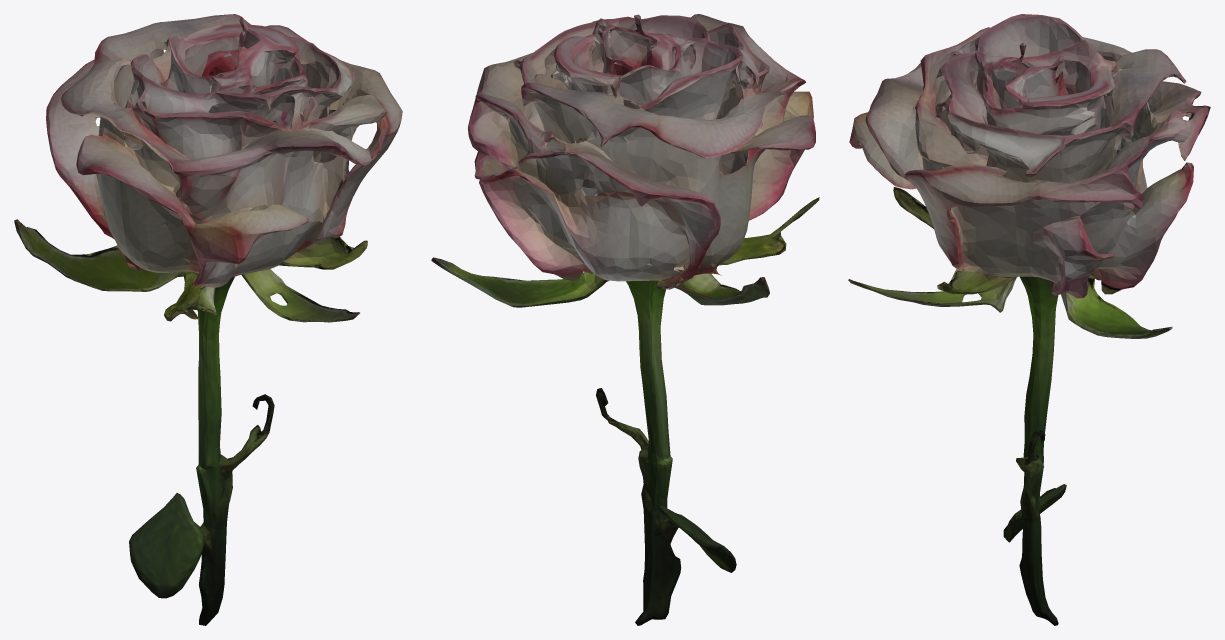
3 renders of one model, left to right at view 1: azimuth 30°, elevation 25°; view 2: azimuth 150°, elevation 25°; view 3: azimuth 270°, elevation 25°, orthographic.
Parts seen in each view (by area): view 1: world; view 2: world; view 3: world.
Part boxes in pixels (bbox=[...]): world: bbox=[14, 14, 402, 625]; world: bbox=[431, 14, 819, 625]; world: bbox=[848, 14, 1210, 625].
Bounding box in the file's own units: 0.5491 × 0.9674 × 0.5377.
Materials: 1 (1 with a texture image).
